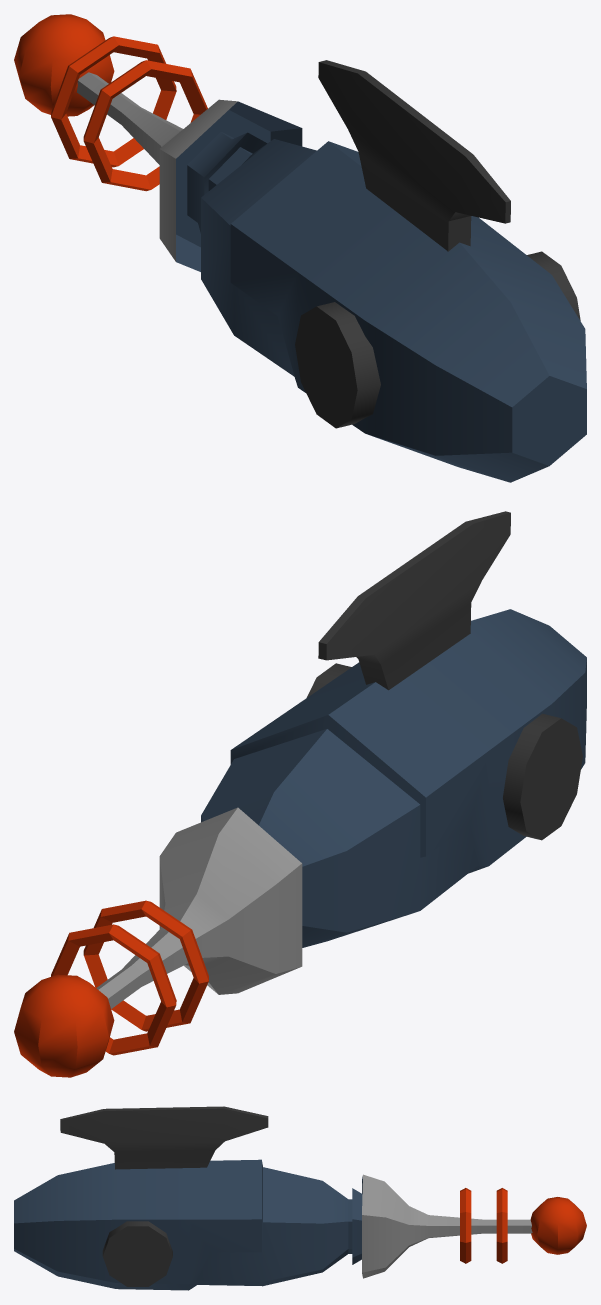
The model's file is LaserGun.fbx.
3 renders of one model, top to bottom at view 1: azimuth 30°, elevation 25°; view 2: azimuth 150°, elevation 25°; view 3: azimuth 270°, elevation 25°, orthographic. The views are drawn at different scales.
Parts seen in each view (by area): view 1: Cylinder; view 2: Cylinder; view 3: Cylinder.
Boxes of the visible parts, x1,y1,x2,y2 form: Cylinder: [14, 14, 586, 482]; Cylinder: [14, 511, 586, 1077]; Cylinder: [14, 1106, 586, 1290].
Bounding box in the file's own units: 200 × 277 × 786.
